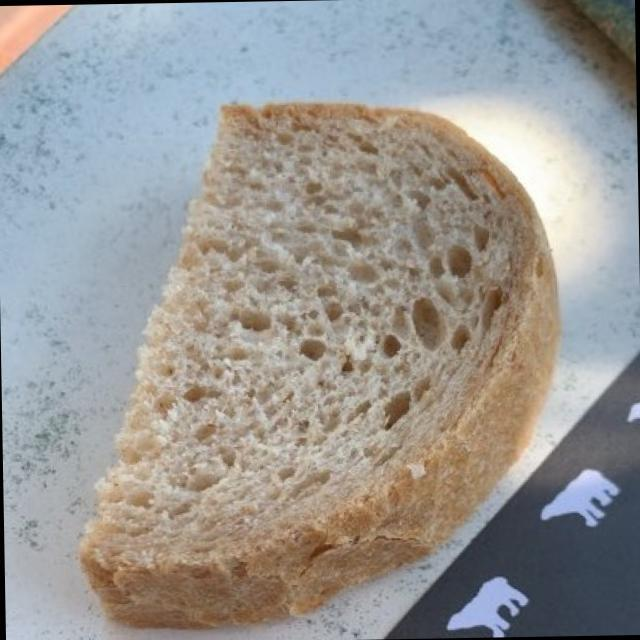Bread: (68, 79, 573, 640)
